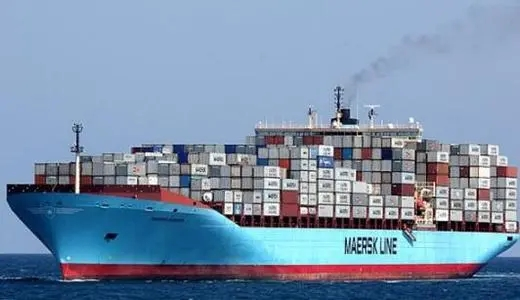Cargoship: (4, 84, 520, 277)
